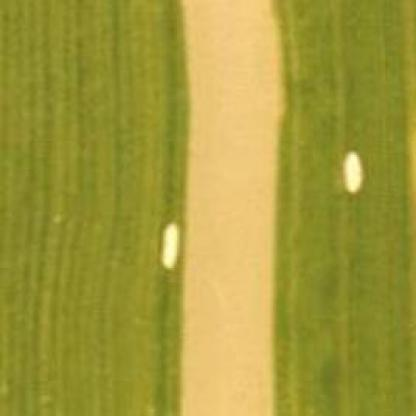whorl-maggot: (156, 219, 182, 276), (341, 146, 368, 198)
